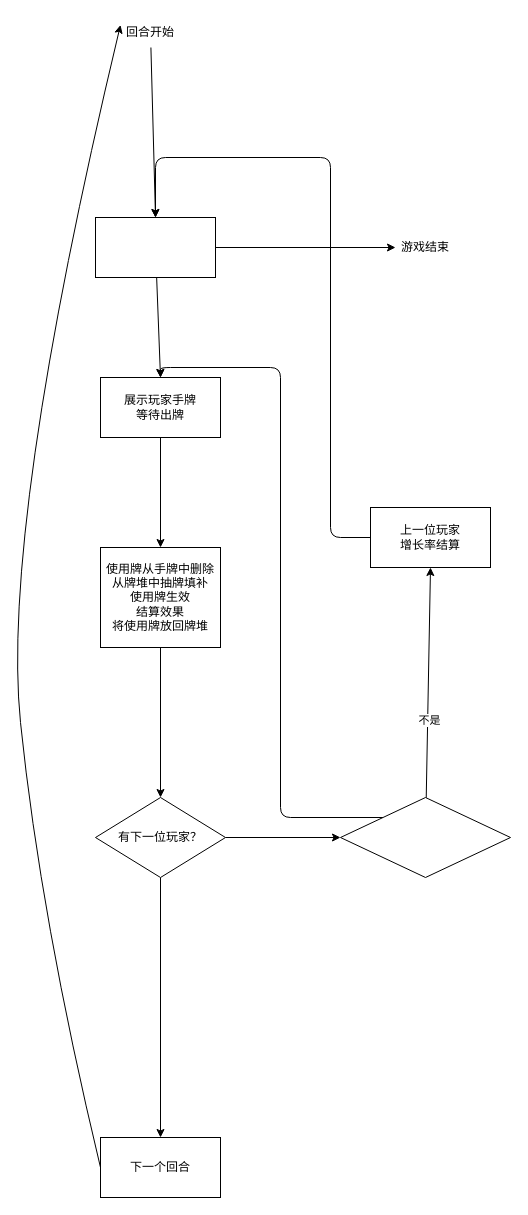
The diagram is 528 pixels wide and 1215 high, and some of its shapes have lost their labels. The box of each missing label's shape, as (x1, y1, x2, y2) in pixels:
下一位玩家是自己？: (340, 796, 510, 878)
胜负条件检查: (94, 216, 216, 278)
